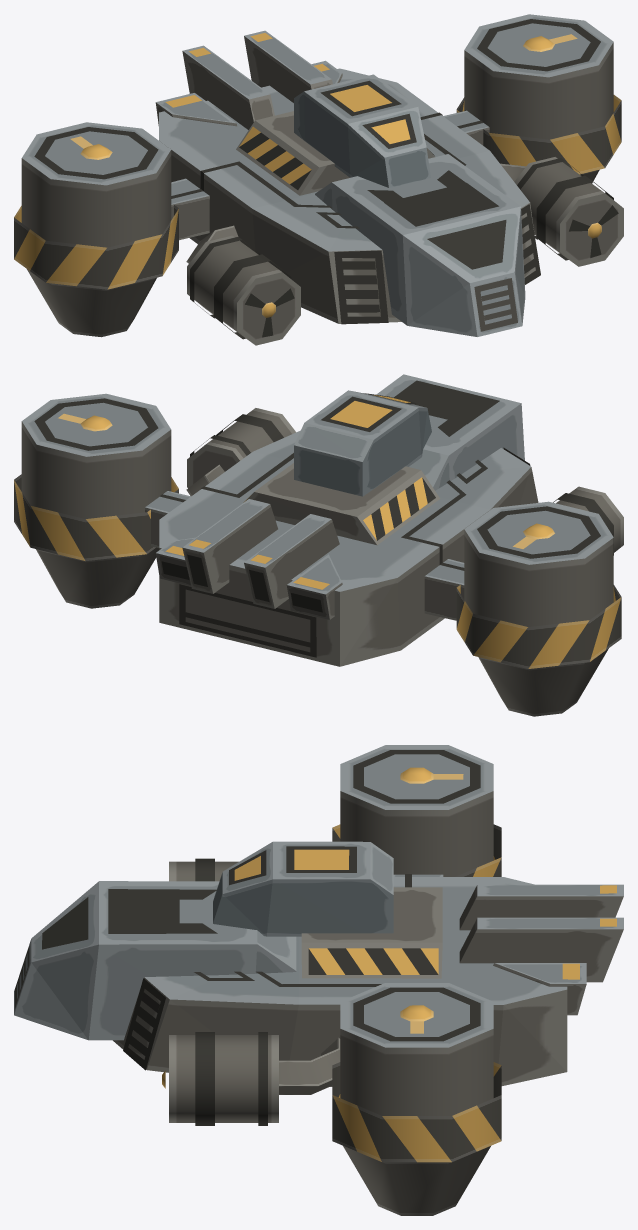
File: scout_troop.FBX
3 views of the same model, one above another, from view 1: azimuth 30°, elevation 25°; view 2: azimuth 150°, elevation 25°; view 3: azimuth 270°, elevation 25° (orthographic). The views are drawn at different scales.
Visible parts, largest first — view 1: scout, e, f, d, c, b, a; view 2: scout, e, f, b, a; view 3: scout, f, e, a.
Boxes of the visible parts, box(x1,y1,x2,y2) form: scout: box(21, 14, 623, 345); e: box(14, 205, 178, 289); f: box(456, 95, 621, 174); d: box(569, 205, 618, 257); c: box(245, 288, 294, 337); b: box(523, 34, 577, 51); a: box(70, 136, 112, 159); scout: box(21, 374, 623, 716); e: box(456, 585, 621, 668); f: box(14, 474, 178, 561); b: box(58, 413, 112, 431); a: box(513, 523, 554, 548); scout: box(14, 745, 623, 1215); f: box(332, 1062, 501, 1162); e: box(332, 824, 501, 876); a: box(400, 767, 463, 783).
Size of the model in its own units: 120 by 99.99 by 39.93.
